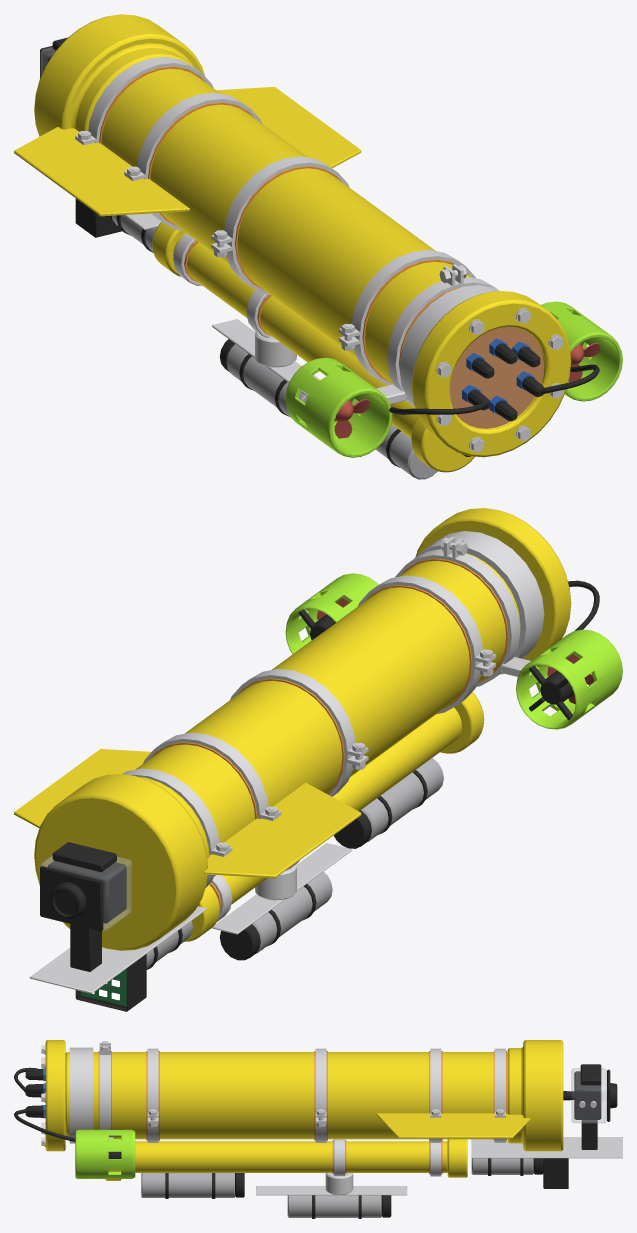
The model's file is rov.glb.
3 renders of one model, top to bottom at view 1: azimuth 30°, elevation 25°; view 2: azimuth 150°, elevation 25°; view 3: azimuth 270°, elevation 25°, orthographic. The views are drawn at different scales.
Visible parts, largest first — view 1: hull_main_tube, hull_stern_flange, hull_nose_cap, fin_L, thruster_L_duct, lower_tube, stern_endplate, fin_R, thruster_R_duct, clamp_2, clamp_1, hull_stern_collar (+11 smaller); view 2: hull_main_tube, hull_nose_cap, fin_L, thruster_L_duct, hull_stern_flange, lower_tube, hull_stern_collar, fin_R, nose_plate, thruster_R_duct, clamp_1, ballast_rear (+19 smaller); view 3: hull_main_tube, lower_tube, hull_nose_cap, fin_R, thruster_R_duct, nose_plate, hull_stern_flange, ballast_rear, hull_stern_collar, ballast_drop_shot, camera, ballast_drop_bar (+17 smaller).
Boxes of the visible parts, x1=… form: hull_main_tube: x1=101, y1=68, x2=471, y2=383; hull_stern_flange: x1=412, y1=291, x2=571, y2=457; hull_nose_cap: x1=34, y1=14, x2=204, y2=136; fin_L: x1=14, y1=127, x2=189, y2=216; thruster_L_duct: x1=285, y1=357, x2=392, y2=457; lower_tube: x1=173, y1=232, x2=417, y2=437; stern_endplate: x1=449, y1=326, x2=543, y2=428; fin_R: x1=217, y1=87, x2=361, y2=168; thruster_R_duct: x1=541, y1=301, x2=622, y2=401; clamp_2: x1=211, y1=156, x2=349, y2=294; clamp_1: x1=339, y1=250, x2=475, y2=385; hull_stern_collar: x1=399, y1=285, x2=499, y2=407; hull_main_tube: x1=136, y1=553, x2=520, y2=876; hull_nose_cap: x1=34, y1=774, x2=209, y2=950; fin_L: x1=204, y1=783, x2=361, y2=878; thruster_L_duct: x1=516, y1=629, x2=622, y2=729; hull_stern_flange: x1=415, y1=508, x2=571, y2=674; lower_tube: x1=209, y1=707, x2=461, y2=904; hull_stern_collar: x1=414, y1=531, x2=544, y2=673; fin_R: x1=14, y1=749, x2=151, y2=828; nose_plate: x1=29, y1=906, x2=206, y2=993; thruster_R_duct: x1=285, y1=573, x2=378, y2=654; clamp_1: x1=357, y1=575, x2=495, y2=713; ballast_rear: x1=361, y1=758, x2=443, y2=841; hull_main_tube: x1=65, y1=1052, x2=507, y2=1139; lower_tube: x1=135, y1=1141, x2=447, y2=1172; hull_nose_cap: x1=507, y1=1040, x2=563, y2=1151; fin_R: x1=376, y1=1113, x2=530, y2=1138; thruster_R_duct: x1=75, y1=1129, x2=135, y2=1178; nose_plate: x1=471, y1=1137, x2=622, y2=1158; hull_stern_flange: x1=45, y1=1040, x2=65, y2=1151; ballast_rear: x1=141, y1=1173, x2=234, y2=1197; hull_stern_collar: x1=69, y1=1047, x2=93, y2=1143; ballast_drop_shot: x1=287, y1=1195, x2=381, y2=1217; camera: x1=571, y1=1068, x2=606, y2=1122; ballast_drop_bar: x1=256, y1=1186, x2=407, y2=1195.
Bounding box in the file's own units: 0.282 × 0.2398 × 0.7647.
